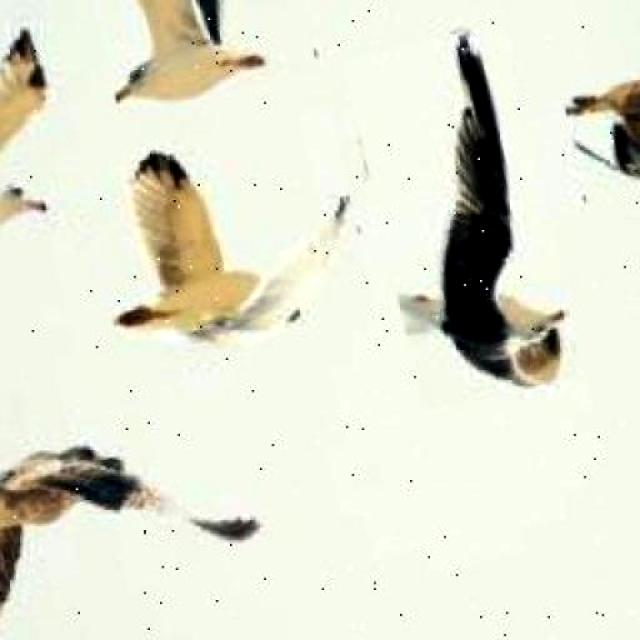airplane: (342, 21, 582, 411), (75, 104, 379, 380), (0, 409, 269, 640), (68, 0, 318, 114), (0, 0, 80, 288), (562, 55, 640, 212)
